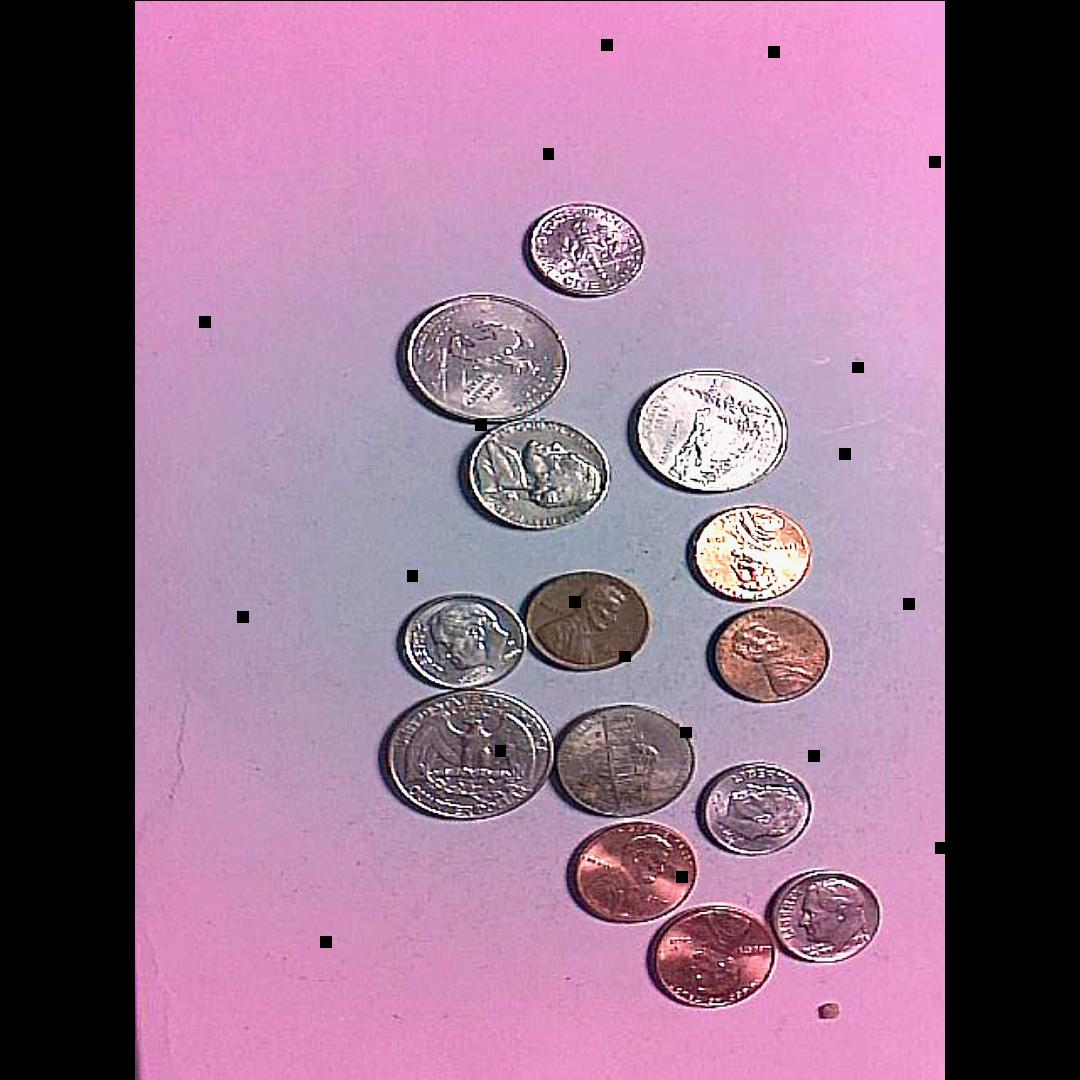Dime: (397, 591, 526, 690), (521, 199, 648, 297), (768, 867, 883, 965), (695, 763, 813, 856)
Nickel: (457, 417, 613, 533), (548, 704, 697, 822)
Penny: (567, 822, 699, 925), (648, 903, 776, 1007), (525, 570, 651, 672), (707, 604, 832, 704), (688, 505, 813, 601)
Quarter: (378, 687, 557, 822), (397, 290, 570, 425), (628, 368, 791, 493)
